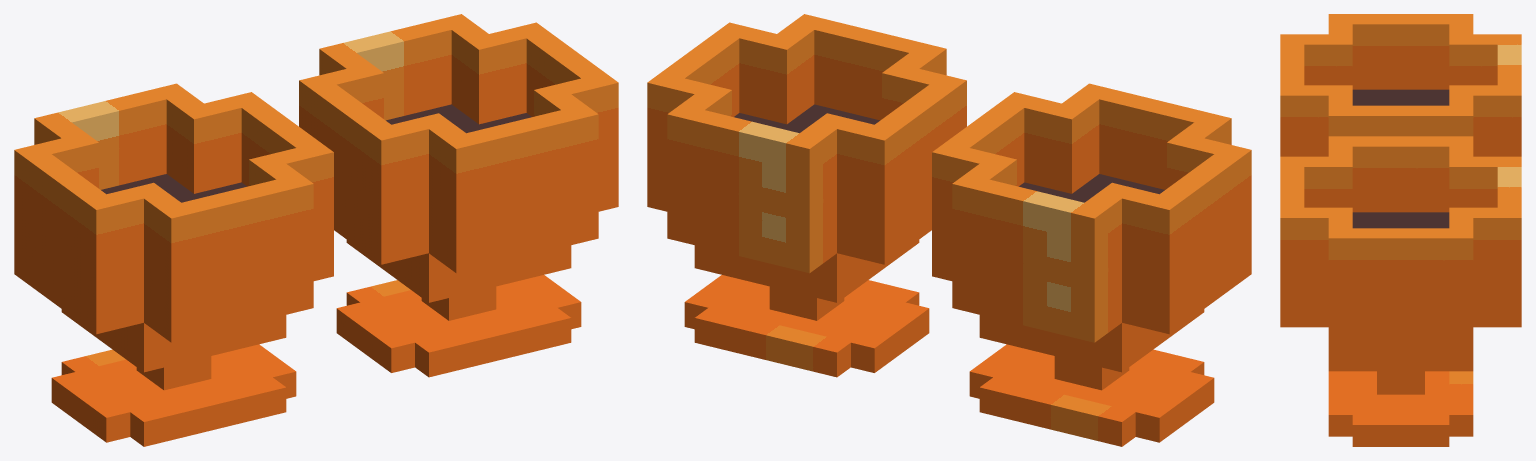
File: footer_chalice_2.gltf
The picture shows the model from 3 angles, left to right: view 1: azimuth 30°, elevation 25°; view 2: azimuth 150°, elevation 25°; view 3: azimuth 270°, elevation 25°; orthographic projection. The views are drawn at different scales.
Visible parts, largest first — view 1: Chalice2_2-Local, Chalice2_1-Local; view 2: Chalice2_2-Local, Chalice2_1-Local; view 3: Chalice2_1-Local, Chalice2_2-Local.
Boxes of the visible parts, <box> form: Chalice2_2-Local: <box>14,83,333,446</box>; Chalice2_1-Local: <box>299,14,618,377</box>; Chalice2_2-Local: <box>932,83,1251,446</box>; Chalice2_1-Local: <box>647,14,966,377</box>; Chalice2_1-Local: <box>1280,136,1521,446</box>; Chalice2_2-Local: <box>1280,14,1521,156</box>.
Bounding box in the file's own units: 22 × 10 × 10.
2 materials, 2 textured.
